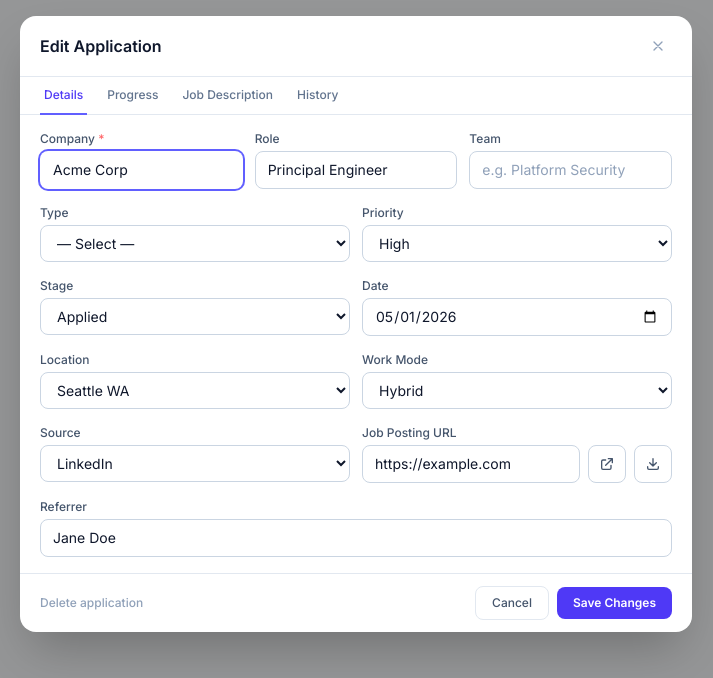
Scenario: ApplicationModal — edit application › requires confirmation before deleting
This screenshot has width=713, height=678.
Click the button "Delete application".
click(92, 603)  # box x1=40 y1=595 x2=143 y2=611
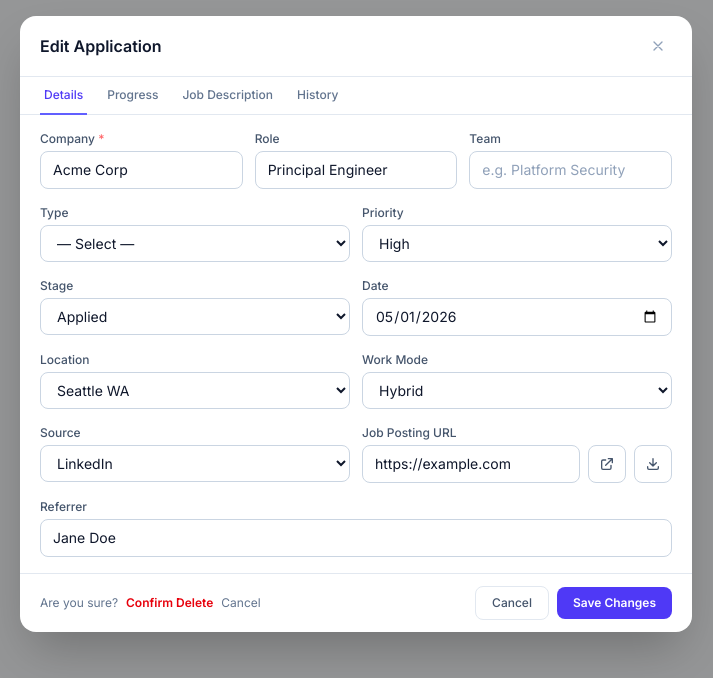
Check: the text "Are you sure?" is shown, box x1=40 y1=595 x2=118 y2=611
